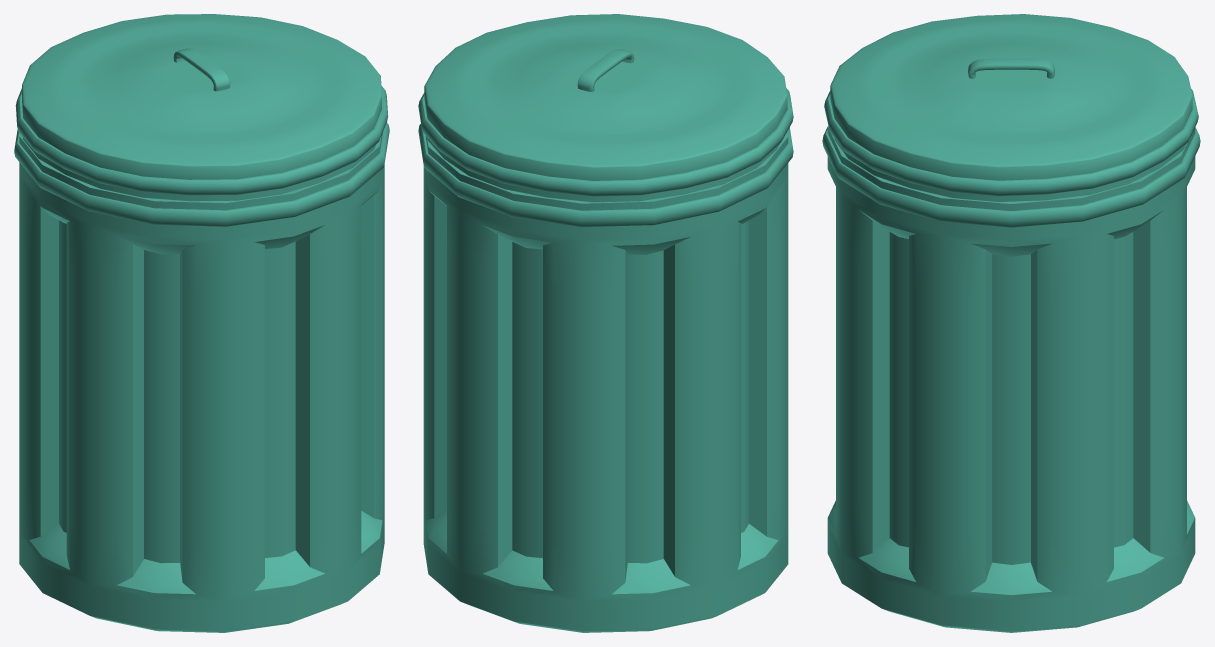
The picture shows the model from 3 angles, left to right: view 1: azimuth 30°, elevation 25°; view 2: azimuth 150°, elevation 25°; view 3: azimuth 270°, elevation 25°; orthographic projection.
Parts seen in each view (by area): view 1: 圆柱, 盖, 手柄; view 2: 圆柱, 盖, 手柄; view 3: 圆柱, 盖, 手柄.
Boxes of the visible parts, x1,y1,x2,y2 form: 圆柱: [14, 122, 389, 632]; 盖: [15, 14, 388, 201]; 手柄: [173, 48, 230, 91]; 圆柱: [418, 124, 793, 632]; 盖: [418, 14, 793, 202]; 手柄: [577, 49, 634, 91]; 圆柱: [822, 125, 1200, 632]; 盖: [824, 14, 1198, 201]; 手柄: [968, 58, 1054, 78].
Bounding box in the file's own units: 0.1991 × 0.2897 × 0.1991.
